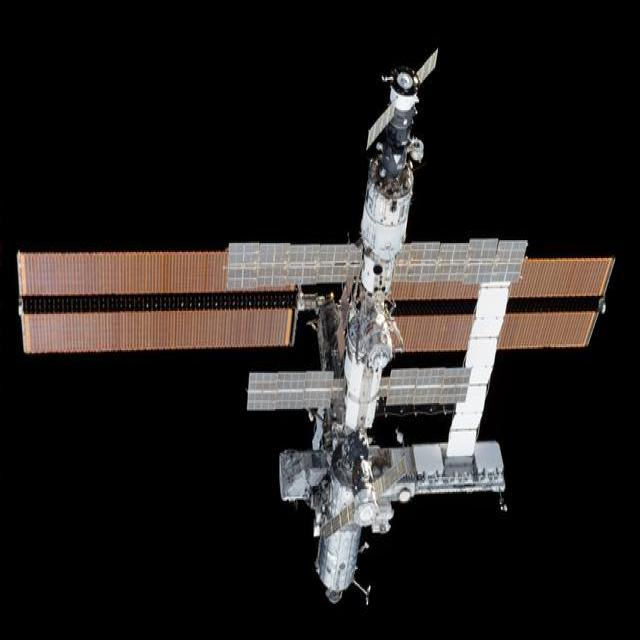medium_debris: (6, 49, 613, 612)
